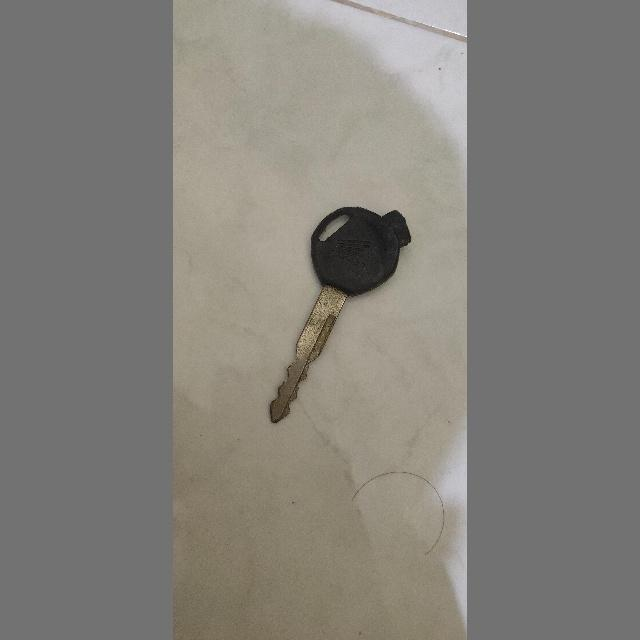Keys: (250, 178, 420, 446)
